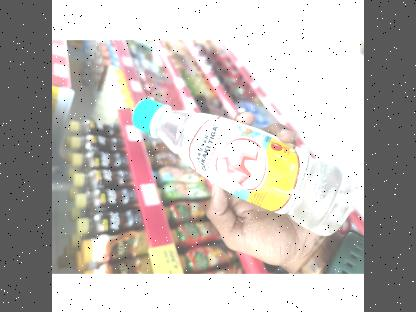Plastic Bottle: (122, 86, 362, 248)
